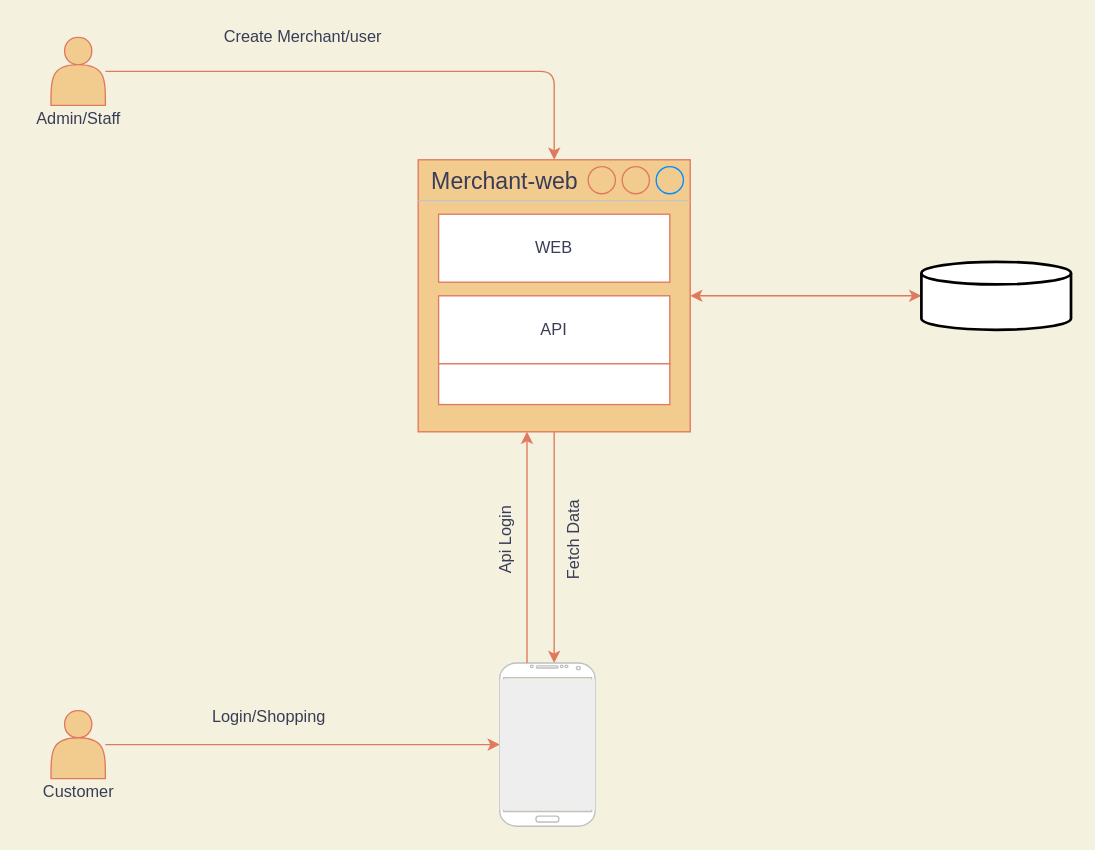
Image size: 1095x850. Some labels were removed from this diagram. Each missing label, with the centre of its shape:
Database Mysql: the point at 995,295
JWT: the point at 553,383
